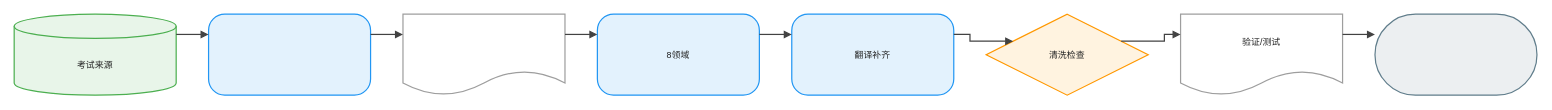
Some shapes in this 1552 by 110 pixel diagram are drawn without their labels. The shapes that lost their labels are listed below. From the top down, each one's box as (x1, y1, x2, y2) in pixels, then its label:
(208, 13, 371, 95): 11语言
(402, 13, 565, 95): 41学科
(1374, 13, 1537, 95): 准确率
